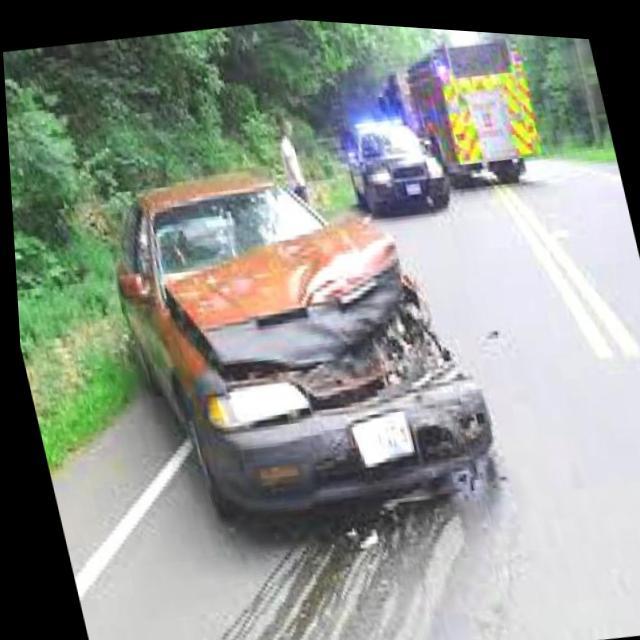Car-Damage: (147, 185, 505, 521)
